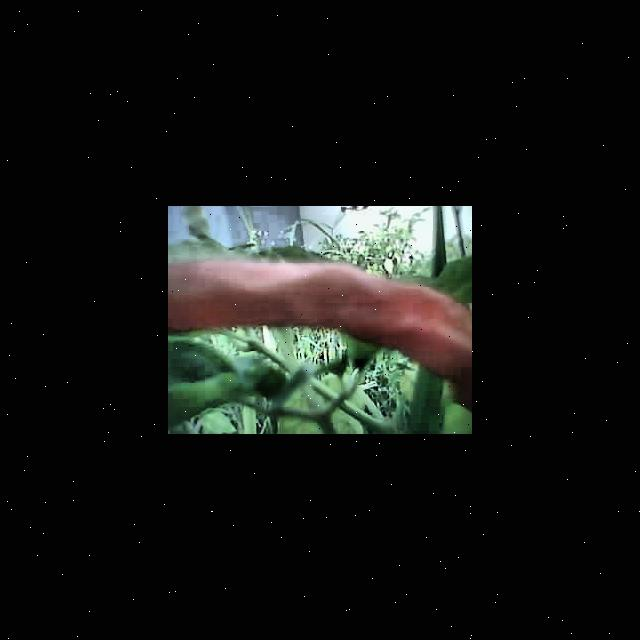Cabai: (168, 252, 472, 380)
